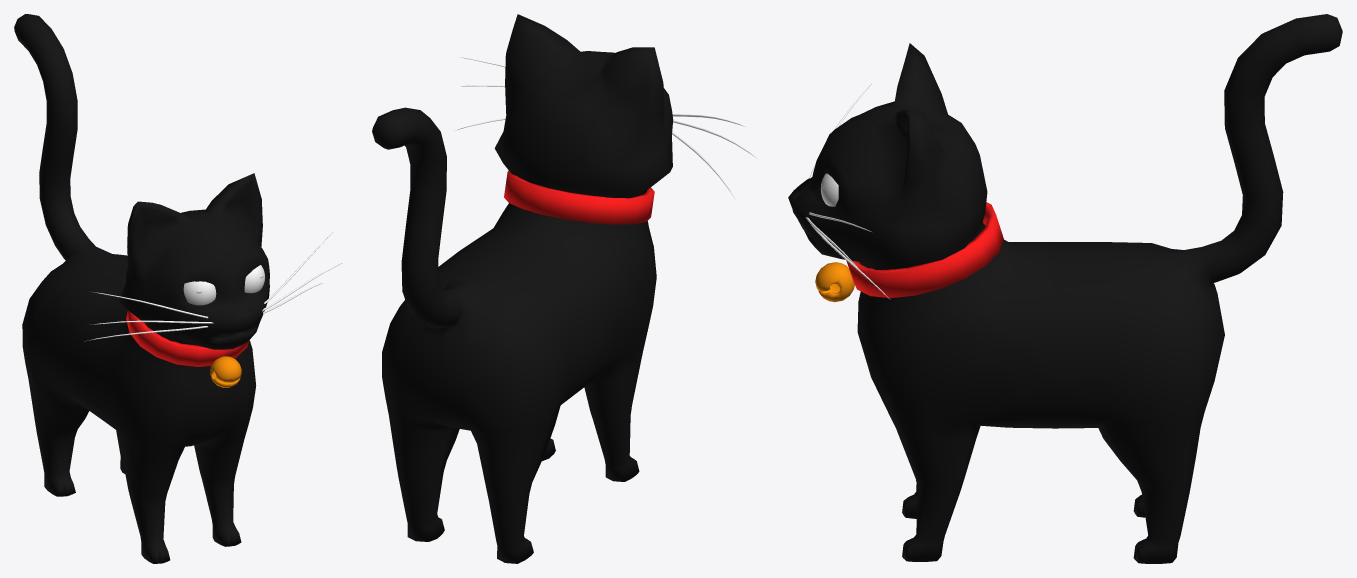
The model's file is BasicCat.FBX.
The picture shows the model from 3 angles, left to right: view 1: azimuth 30°, elevation 25°; view 2: azimuth 150°, elevation 25°; view 3: azimuth 270°, elevation 25°; orthographic projection. The views are drawn at different scales.
Visible parts, largest first — view 1: Cat, Bell_necklace01, Line, eye, Bell_necklace00; view 2: Cat, Bell_necklace01, Line; view 3: Cat, Bell_necklace01, Bell_necklace00, Line.
Part boxes in pixels (bbox=[...]): Cat: bbox=[14, 14, 269, 563]; Bell_necklace01: bbox=[126, 310, 249, 366]; Line: bbox=[85, 232, 341, 341]; eye: bbox=[183, 265, 265, 305]; Bell_necklace00: bbox=[210, 356, 241, 387]; Cat: bbox=[372, 14, 673, 563]; Bell_necklace01: bbox=[504, 170, 654, 224]; Line: bbox=[455, 57, 758, 197]; Cat: bbox=[788, 14, 1342, 563]; Bell_necklace01: bbox=[846, 202, 1003, 298]; Bell_necklace00: bbox=[815, 262, 854, 302]; Line: bbox=[805, 84, 890, 299].
Bounding box in the file's own units: 92.52 × 143 × 138.
